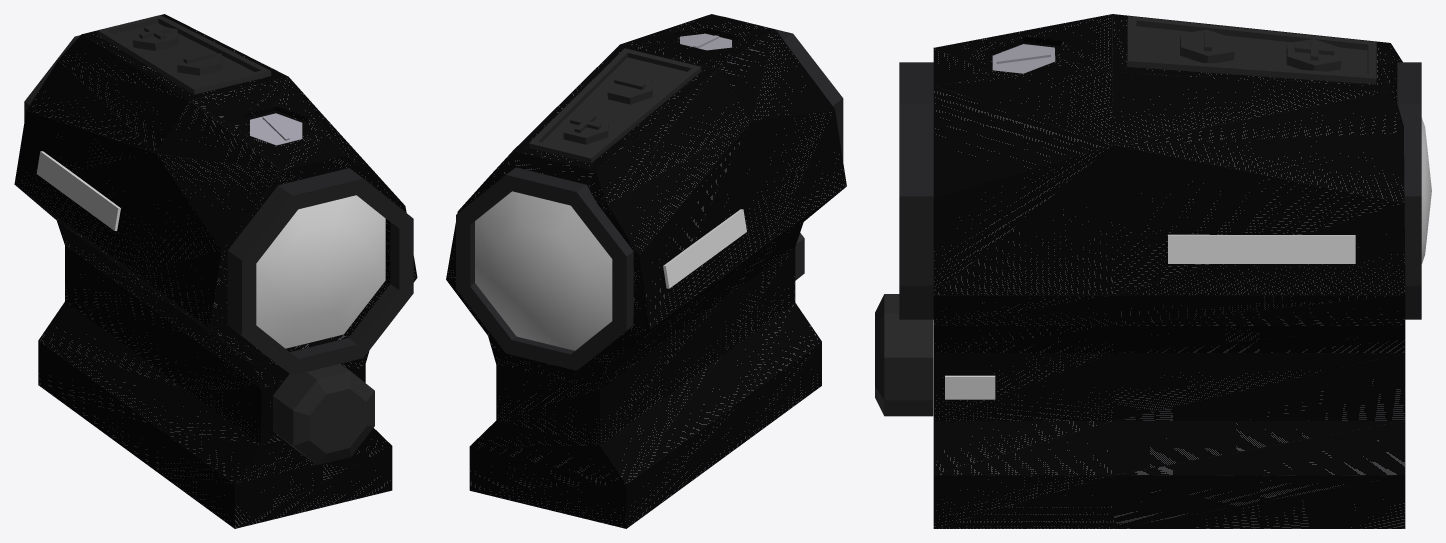
Rendered from red_dot_c.fbx.
3 views of the same model, side by side, from view 1: azimuth 30°, elevation 25°; view 2: azimuth 150°, elevation 25°; view 3: azimuth 270°, elevation 25° (orthographic). The views are drawn at different scales.
Parts seen in each view (by area): view 1: red_dot_c, glass.001; view 2: red_dot_c, glass.004; view 3: red_dot_c, glass.004.
Boxes of the visible parts, x1,y1,x2,y2 form: red_dot_c: [14, 14, 417, 528]; glass.001: [256, 195, 385, 348]; red_dot_c: [446, 14, 846, 528]; glass.004: [475, 191, 612, 350]; red_dot_c: [875, 14, 1421, 528]; glass.004: [1421, 117, 1431, 263].
Size of the model in its own units: 2.37 by 4.03 by 4.58.
Materials: 1 (1 with a texture image).
